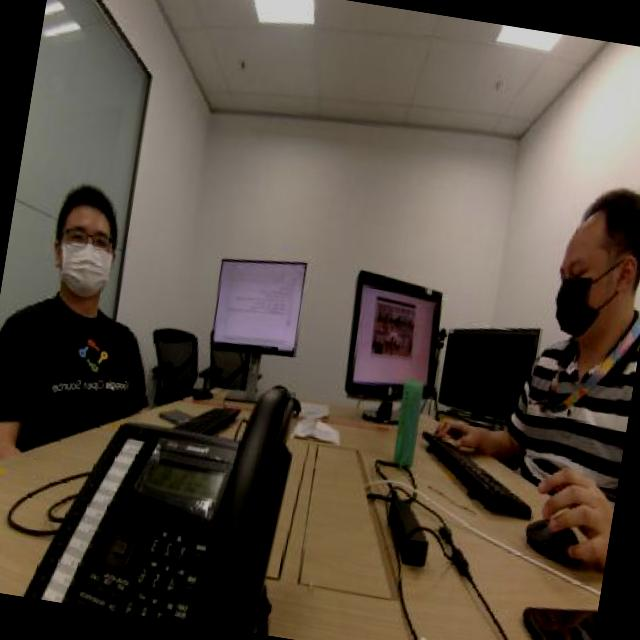Person: (505, 156, 640, 511), (11, 146, 150, 450)
